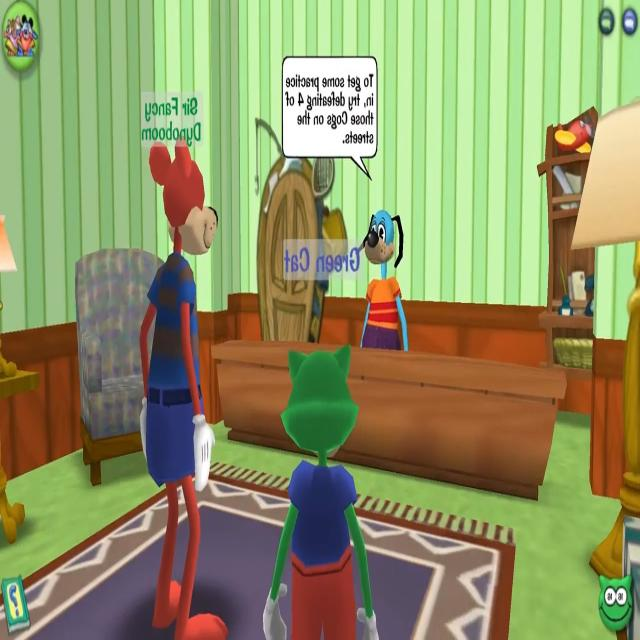npc: (352, 196, 414, 366)
